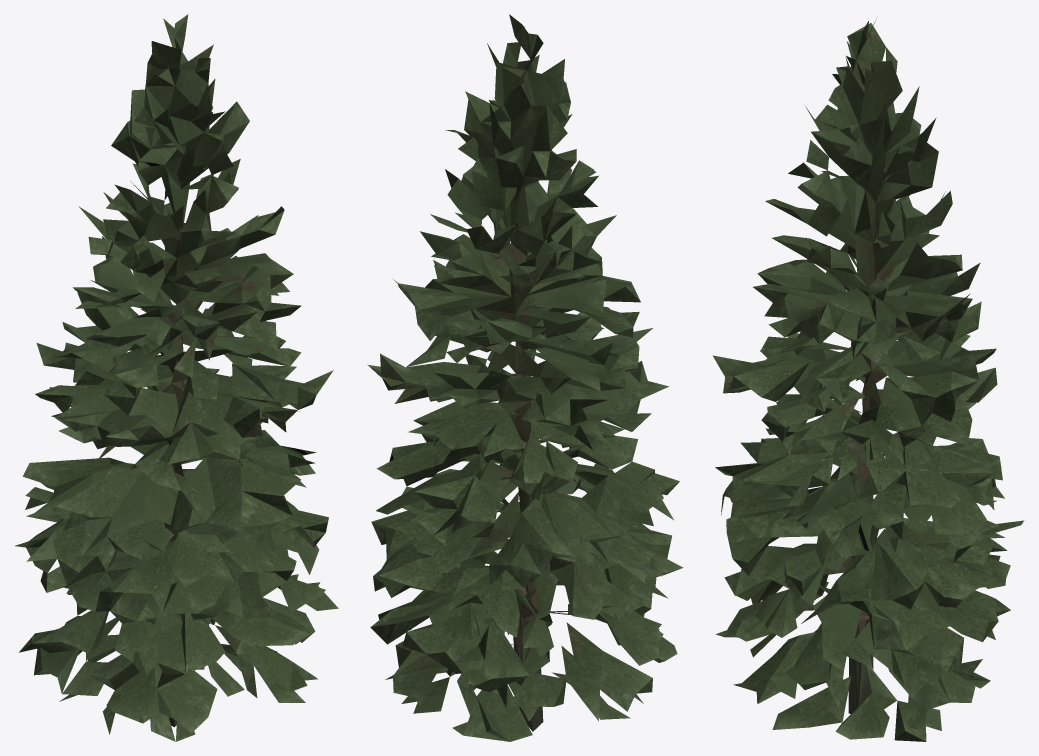
Rendered from spruce.glb.
The picture shows the model from 3 angles, left to right: view 1: azimuth 30°, elevation 25°; view 2: azimuth 150°, elevation 25°; view 3: azimuth 270°, elevation 25°; orthographic projection.
Parts seen in each view (by area): view 1: output_unwrapped; view 2: output_unwrapped; view 3: output_unwrapped.
Part boxes in pixels (x1,y1,x2,y2): output_unwrapped: [15, 14, 338, 741]; output_unwrapped: [367, 14, 683, 741]; output_unwrapped: [712, 18, 1024, 741].
Bounding box in the file's own units: 0.7272 × 1.75 × 0.7008.
Materials: 1 (1 with a texture image).
